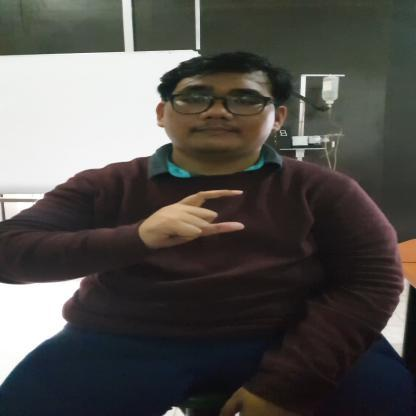C: (138, 188, 247, 246)
